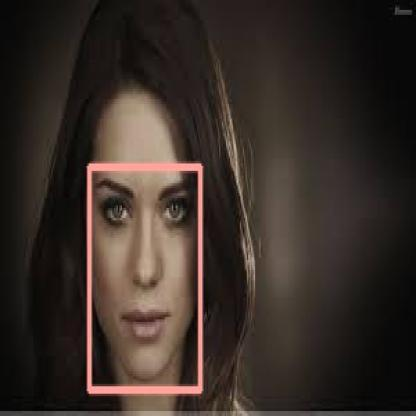without_mask: (89, 166, 200, 389)
